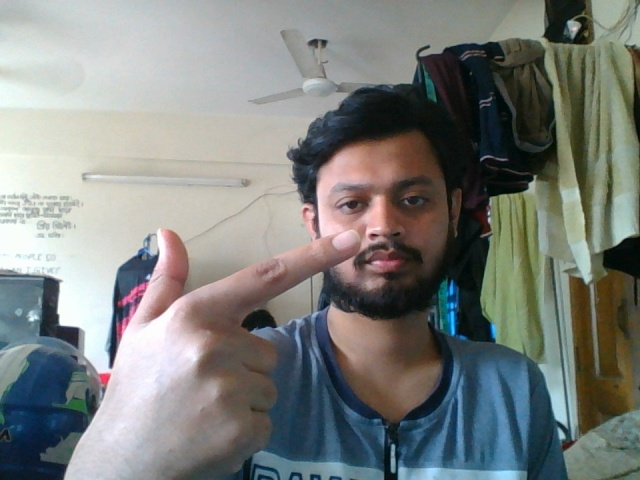tho: (75, 223, 369, 480)
